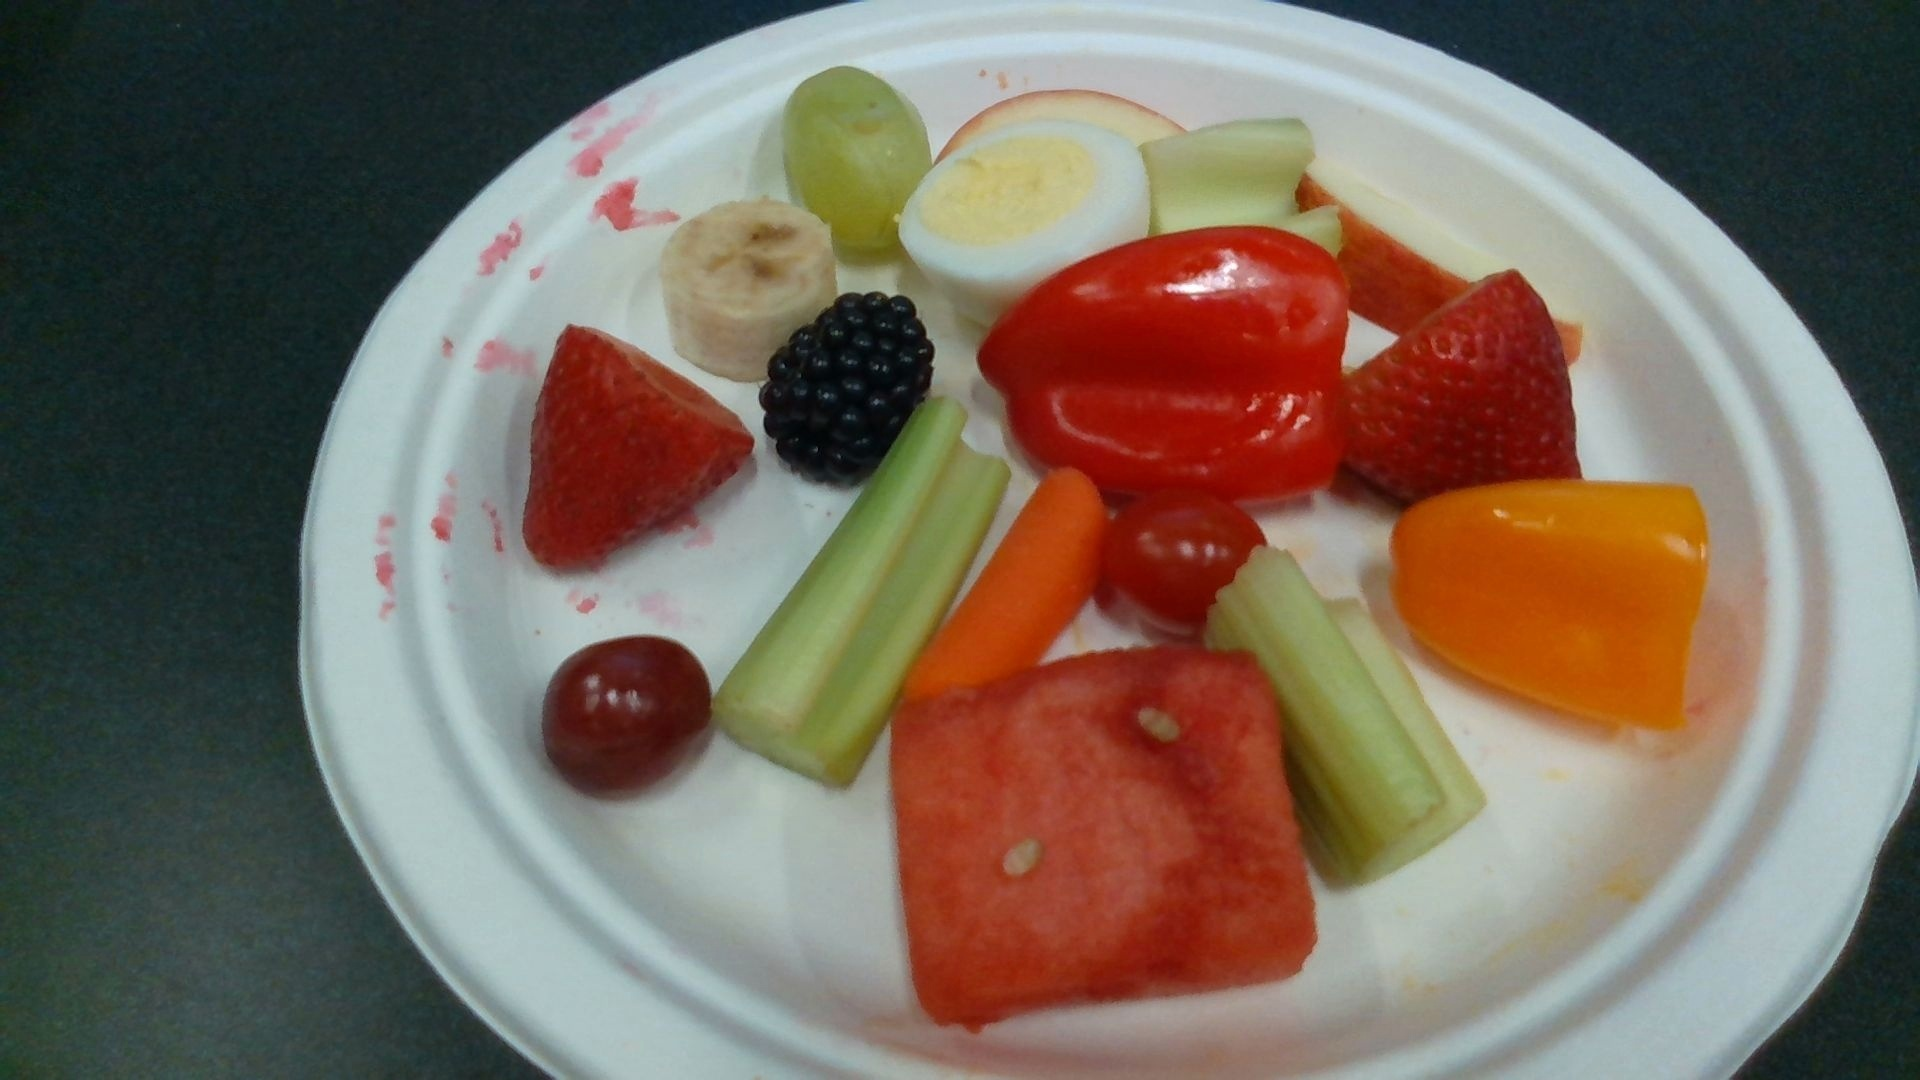apple: (1294, 152, 1584, 356)
banana: (667, 200, 837, 380)
bell_pepper: (980, 228, 1344, 506), (1393, 480, 1706, 740)
blackberry: (764, 295, 934, 480)
carrot: (905, 468, 1109, 705)
celery: (717, 401, 1005, 786), (1207, 546, 1482, 891), (1145, 115, 1342, 256)
cherry_tomato: (1095, 493, 1270, 630)
egg: (895, 116, 1153, 320)
grape_green: (785, 65, 934, 251)
grape_purple: (541, 636, 712, 800)
melon: (891, 651, 1313, 1021)
strawberry: (1337, 268, 1585, 501), (524, 324, 754, 568)
